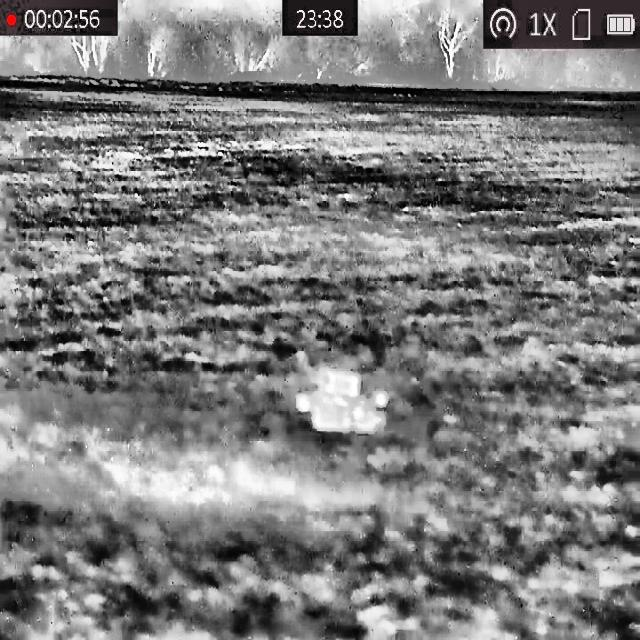drone: (294, 366, 390, 436)
